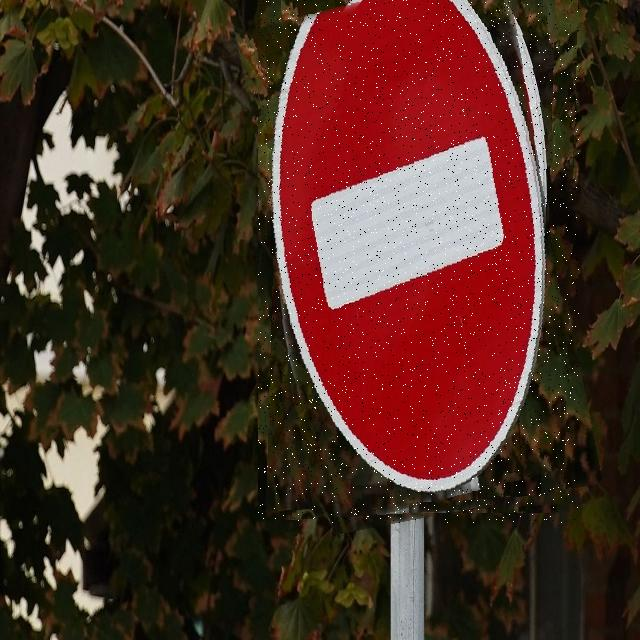no entry: (258, 0, 579, 523)
